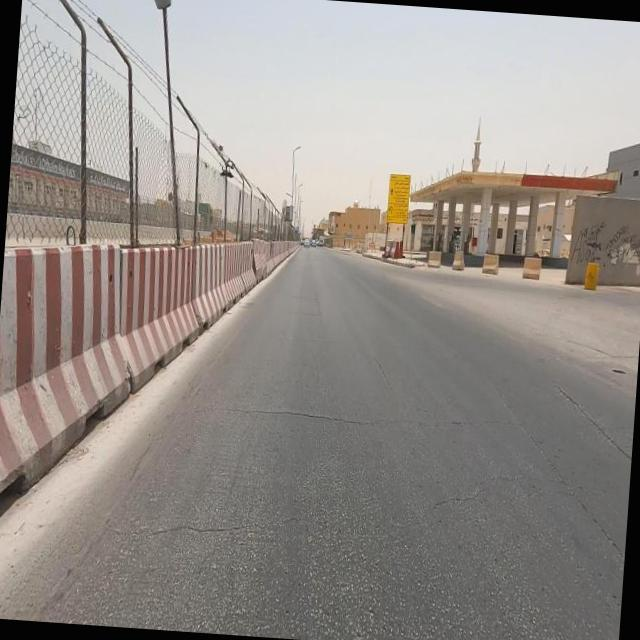debris: (530, 180, 624, 318), (582, 199, 640, 298)
